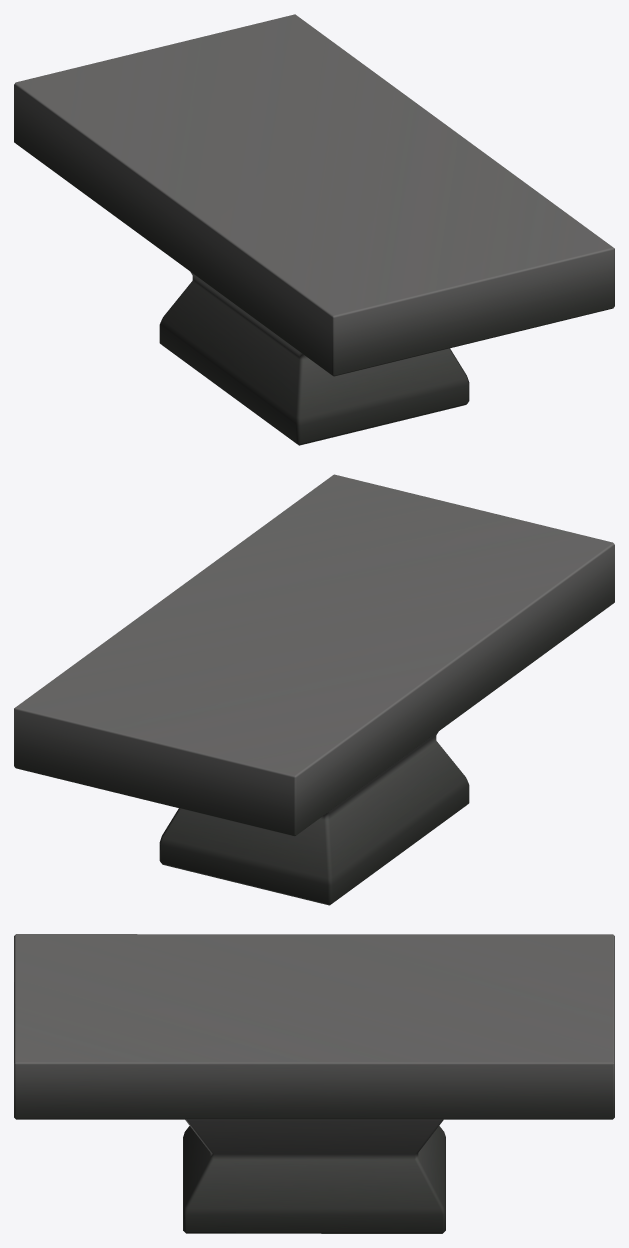
File: mesa.fbx
3 renders of one model, top to bottom at view 1: azimuth 30°, elevation 25°; view 2: azimuth 150°, elevation 25°; view 3: azimuth 270°, elevation 25°, orthographic. The views are drawn at different scales.
Visible parts, largest first — view 1: Mesa pra export; view 2: Mesa pra export; view 3: Mesa pra export.
Part boxes in pixels (x1,y1,x2,y2): Mesa pra export: (14,14,614,445); Mesa pra export: (14,474,614,905); Mesa pra export: (14,934,614,1233).
Bounding box in the file's own units: 150 × 107 × 294.
